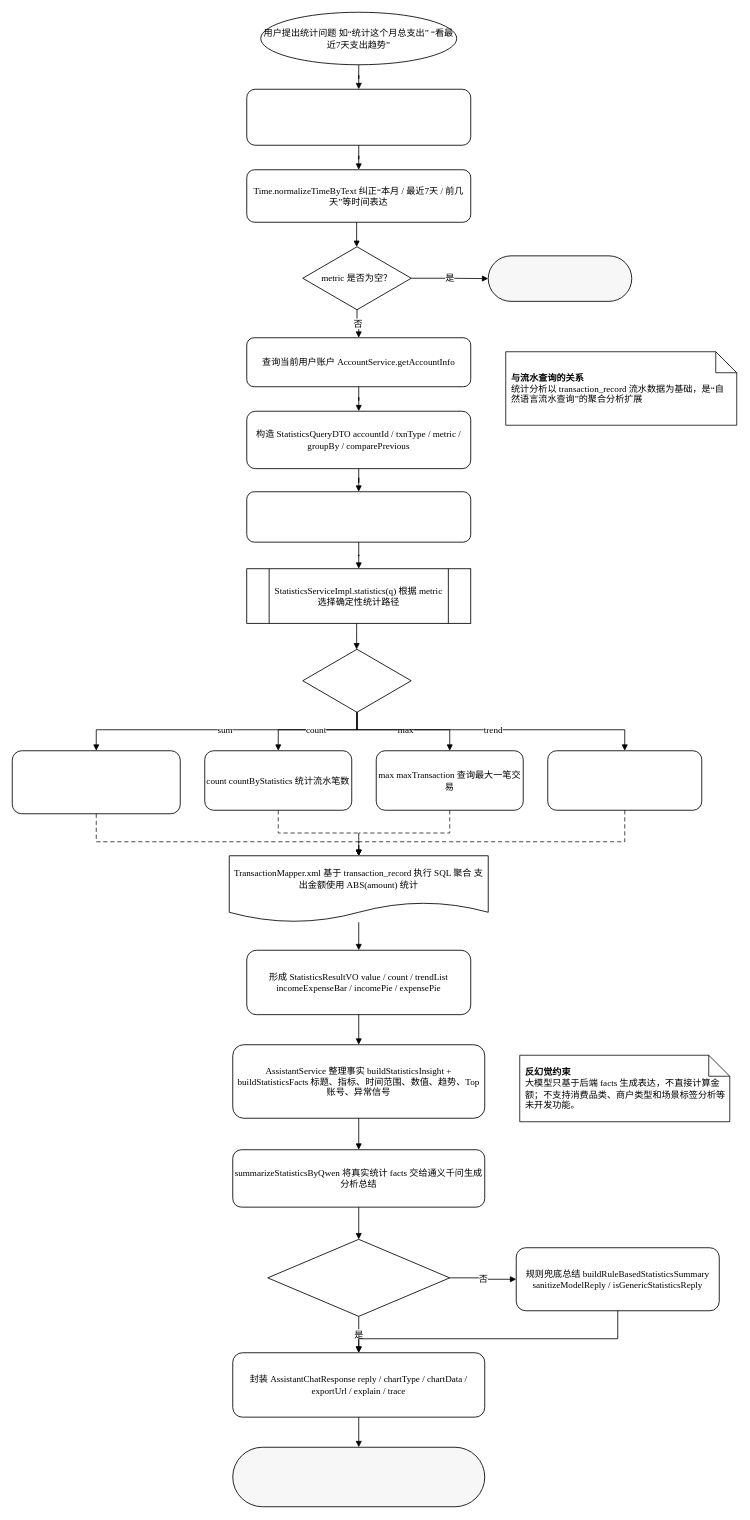
Some shapes in this 750 by 1520 pixel diagram are drawn without their labels. Each missing label, with the box of its shape:
metric 分支: (302, 648, 411, 712)
parseIntentByQwen 解析 statistics 意图 提取 txnType / metric / groupBy / timeRange: (246, 88, 471, 145)
sum sumAmount 整体概览时附加 sumIncomeAndExpense / statisticsByCounterparty: (11, 750, 180, 814)
Time.fillTimeRange 填充 startTime / endTime / rangeValue: (246, 491, 471, 542)
trend statisticsTrend 按 day / month 聚合趋势: (547, 750, 702, 810)
前端 AssistantPanel 渲染 数字卡片 / 柱状图 / 折线图 / 概览图 / 下载明细报表: (232, 1446, 485, 1507)
模型总结是否可用？ 非空、 非模板化、未包含不支持分类能力: (267, 1239, 450, 1316)
返回示例提示-> 要求用户补充统计指标: (487, 255, 632, 301)
